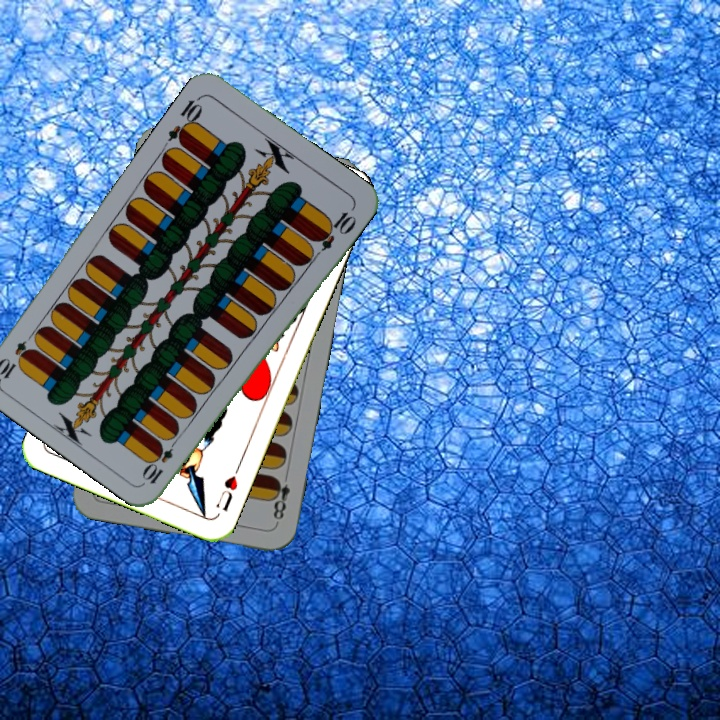E10: (163, 92, 206, 148), (140, 432, 181, 487)
E8: (267, 468, 293, 527)
HU: (211, 461, 243, 514)
